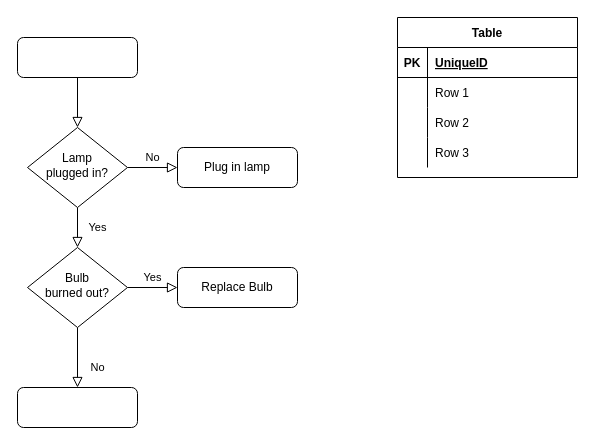
Some shapes in this 595 by 445 pixel diagram are drawn without their labels. The shapes that lost their labels are listed below. From the top down, each one's box as (x1, y1, x2, y2) in pixels, then its label:
(16, 36, 138, 78): Lamp doesn't work
(16, 386, 138, 428): Repair Lamp
